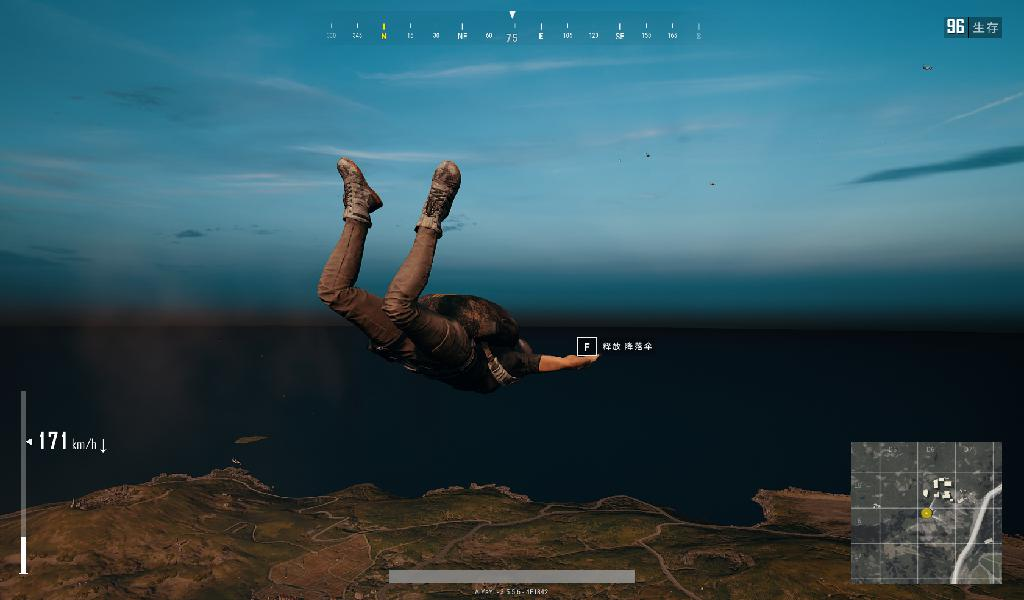Target Person: (315, 156, 603, 388)
